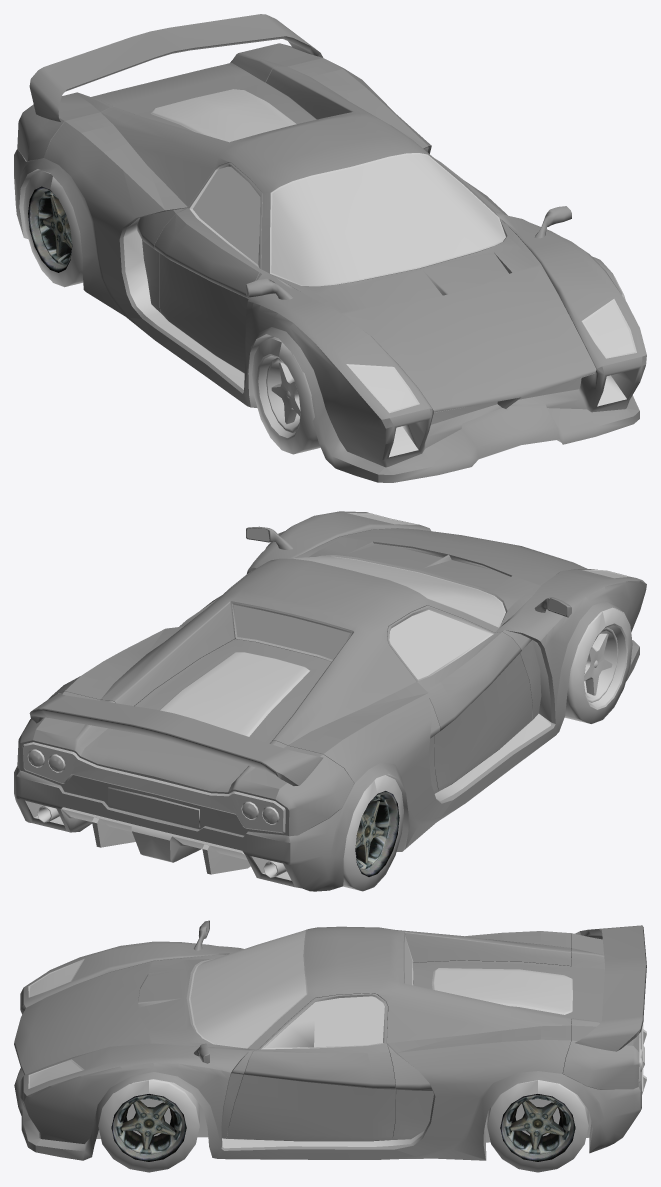
Rendered from Island.obj.
3 renders of one model, top to bottom at view 1: azimuth 30°, elevation 25°; view 2: azimuth 150°, elevation 25°; view 3: azimuth 270°, elevation 25°, orthographic. The views are drawn at different scales.
Parts seen in each view (by area): view 1: Skin, Glass, Details, WheelFront003, WheelFront002, WheelFront001, WheelFront004; view 2: Skin, Glass, Details, WheelFront001, WheelFront003, WheelFront002, WheelFront004; view 3: Skin, Glass, Details, WheelFront005, WheelFront008, WheelFront007, WheelFront006.
Part boxes in pixels (<box>): Skin: <box>14,14,646,482</box>; Glass: <box>152,89,634,411</box>; Details: <box>19,90,638,457</box>; WheelFront003: <box>28,186,72,272</box>; WheelFront002: <box>256,354,300,440</box>; WheelFront001: <box>252,337,320,454</box>; WheelFront004: <box>23,170,83,287</box>; Skin: <box>14,511,646,891</box>; Glass: <box>160,514,627,735</box>; Details: <box>22,513,628,880</box>; WheelFront001: <box>564,607,632,723</box>; WheelFront003: <box>355,791,399,876</box>; WheelFront002: <box>584,623,627,709</box>; WheelFront004: <box>343,775,403,891</box>; Skin: <box>14,920,646,1160</box>; Glass: <box>30,930,571,1088</box>; Details: <box>28,922,646,1159</box>; WheelFront005: <box>98,1079,199,1172</box>; WheelFront008: <box>487,1080,588,1172</box>; WheelFront007: <box>500,1094,575,1161</box>; WheelFront006: <box>111,1094,186,1161</box>.
Size of the model in its own units: 5.32 by 2.83 by 10.47.
